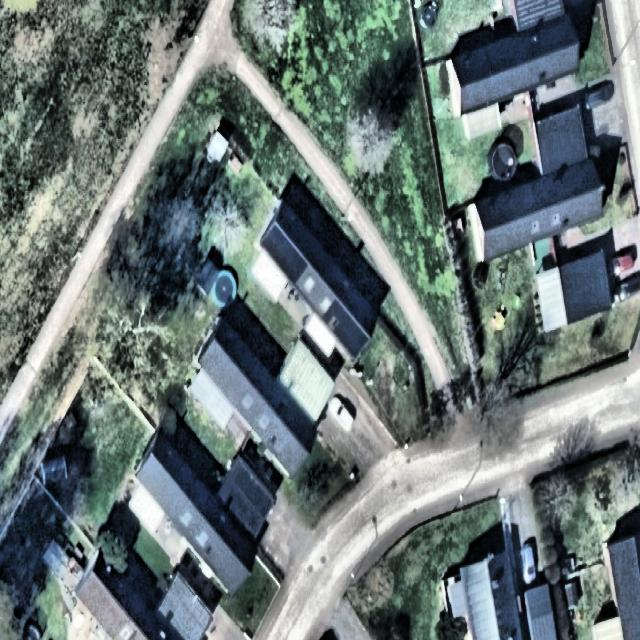roof_pv: (262, 224, 307, 286), (334, 321, 369, 354), (323, 298, 349, 320)
